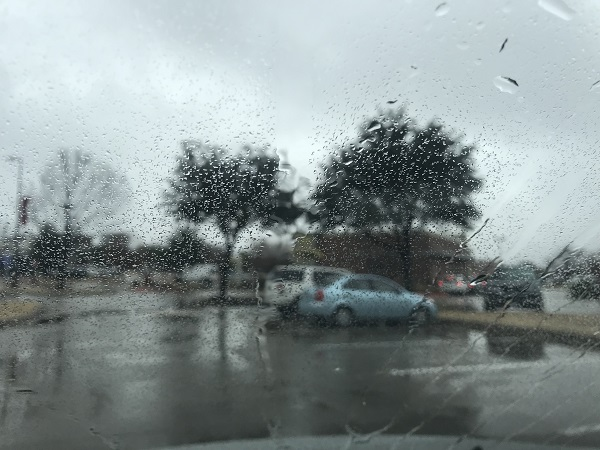car: (302, 272, 436, 327), (260, 262, 350, 315)
